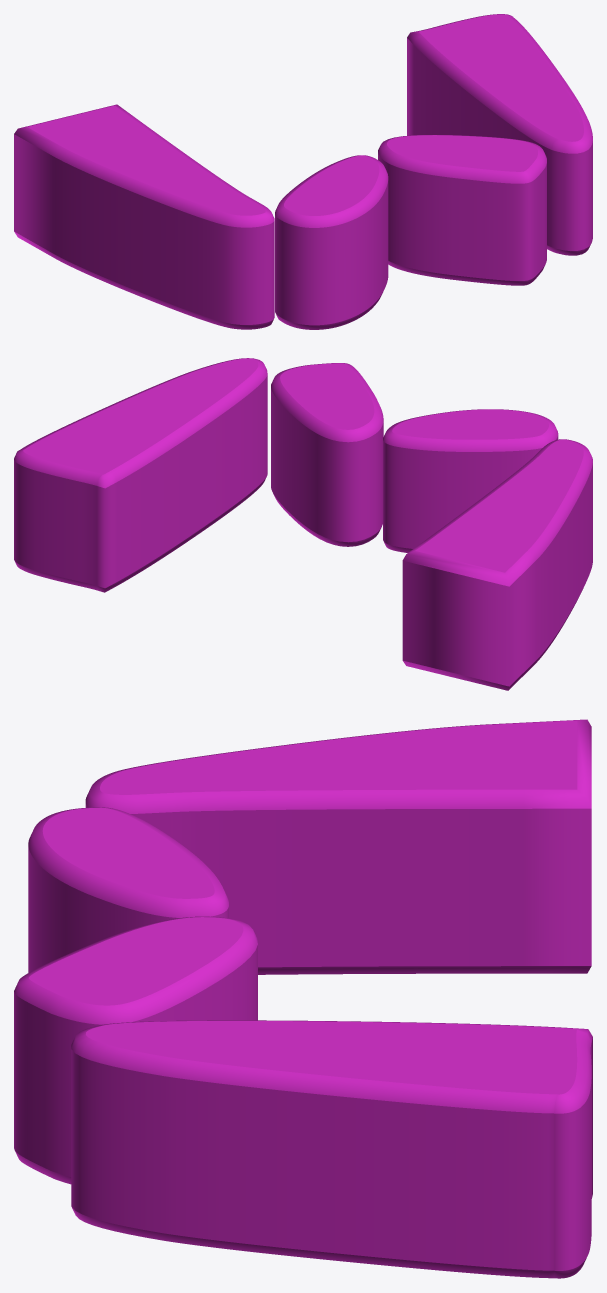
The model's file is Letter_m_Small.fbx.
The picture shows the model from 3 angles, top to bottom: view 1: azimuth 30°, elevation 25°; view 2: azimuth 150°, elevation 25°; view 3: azimuth 270°, elevation 25°; orthographic projection. The views are drawn at different scales.
Visible parts, largest first — view 1: Letter_m; view 2: Letter_m; view 3: Letter_m.
Boxes of the visible parts, box(x1,y1,x2,y2) form: Letter_m: box(14, 14, 592, 329); Letter_m: box(14, 358, 592, 690); Letter_m: box(14, 719, 592, 1278).
Bounding box in the file's own units: 0.6332 × 0.14 × 0.4003.
